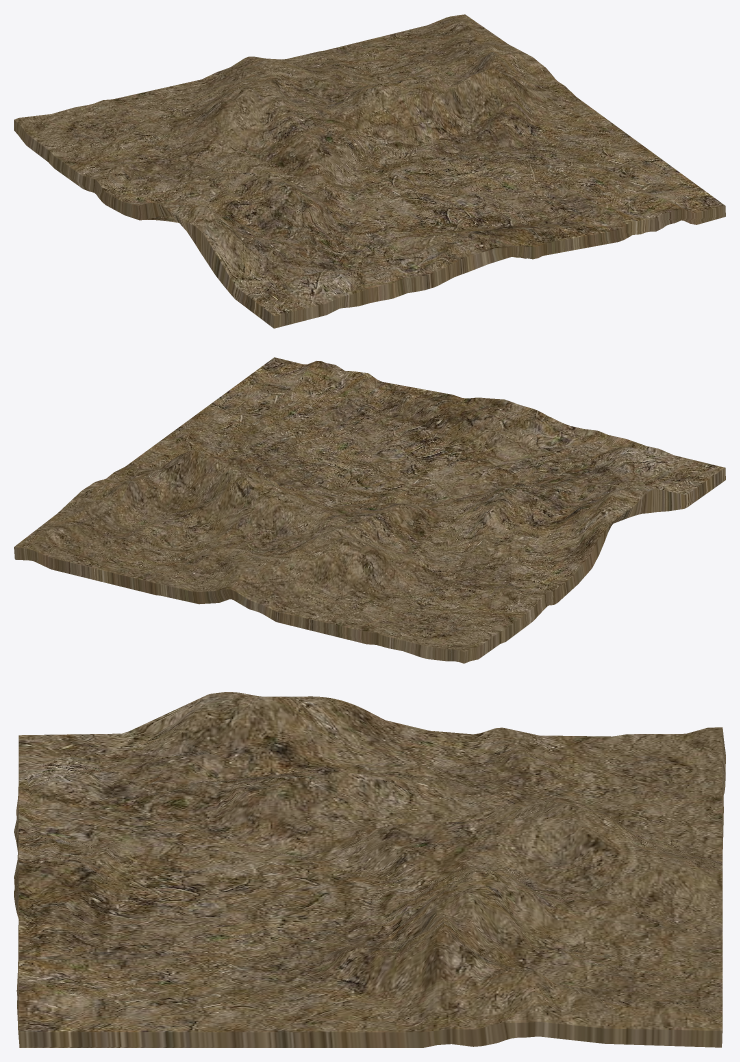
Rendered from terrain-base.glb.
The picture shows the model from 3 angles, top to bottom: view 1: azimuth 30°, elevation 25°; view 2: azimuth 150°, elevation 25°; view 3: azimuth 270°, elevation 25°; orthographic projection. The views are drawn at different scales.
Parts seen in each view (by area): view 1: base; view 2: base; view 3: base.
Boxes of the visible parts, x1,y1,x2,y2 form: base: (14, 14, 725, 328); base: (14, 357, 725, 663); base: (14, 692, 725, 1047).
Bounding box in the file's own units: 1324 × 153 × 1331.
Materials: 1 (1 with a texture image).
